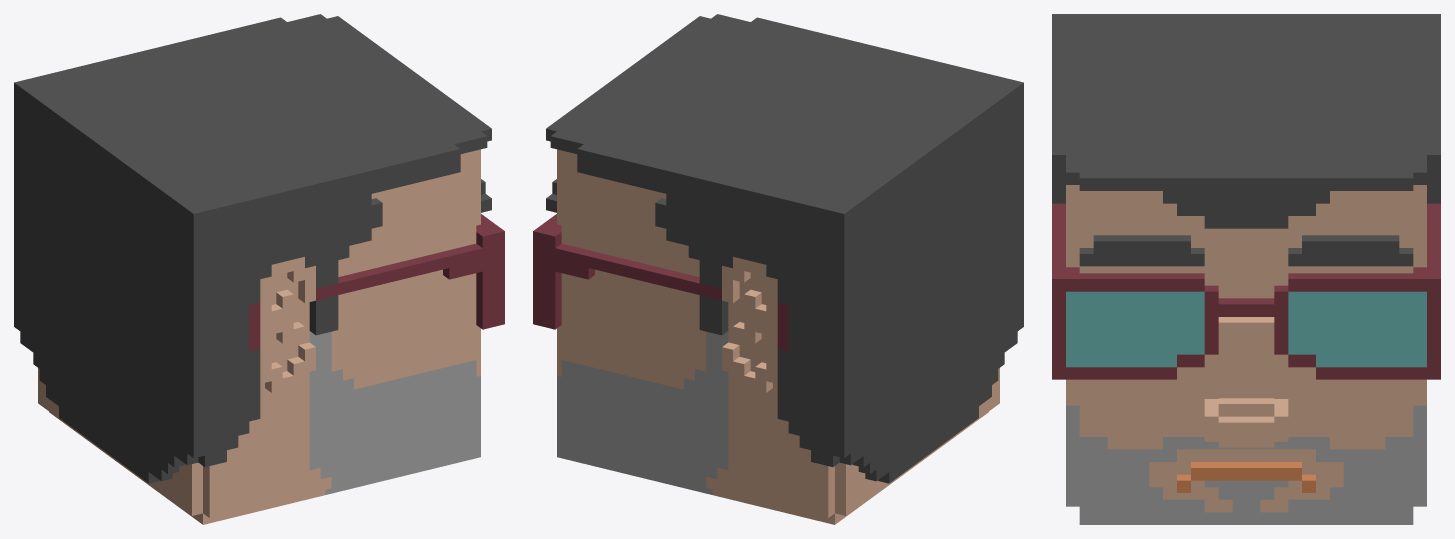
Rendered from menax.dae.
3 views of the same model, side by side, from view 1: azimuth 30°, elevation 25°; view 2: azimuth 150°, elevation 25°; view 3: azimuth 270°, elevation 25° (orthographic). The views are drawn at different scales.
Visible parts, largest first — view 1: menax; view 2: menax; view 3: menax.
Boxes of the visible parts, left/top/right/bottom form: menax: left=14, top=14, right=504, bottom=524; menax: left=533, top=14, right=1023, bottom=524; menax: left=1052, top=14, right=1440, bottom=524.
Size of the model in its own units: 31 by 28 by 28.
Materials: 1 (1 with a texture image).
